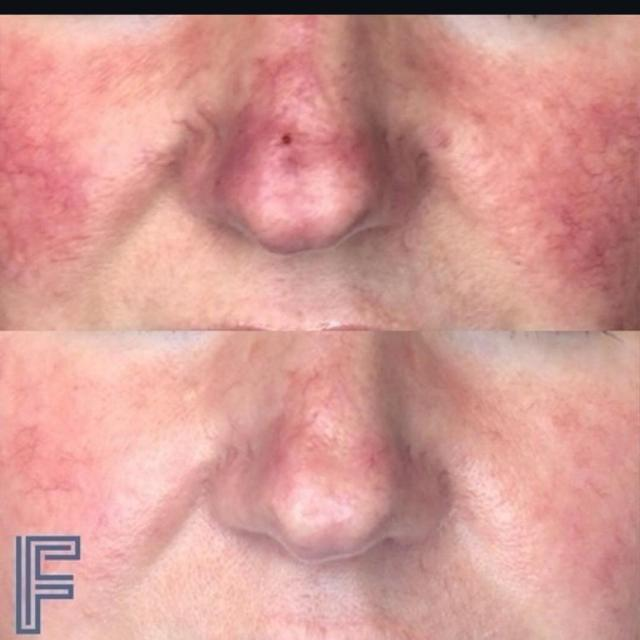Rosacea: (230, 71, 640, 282), (0, 106, 86, 298)
